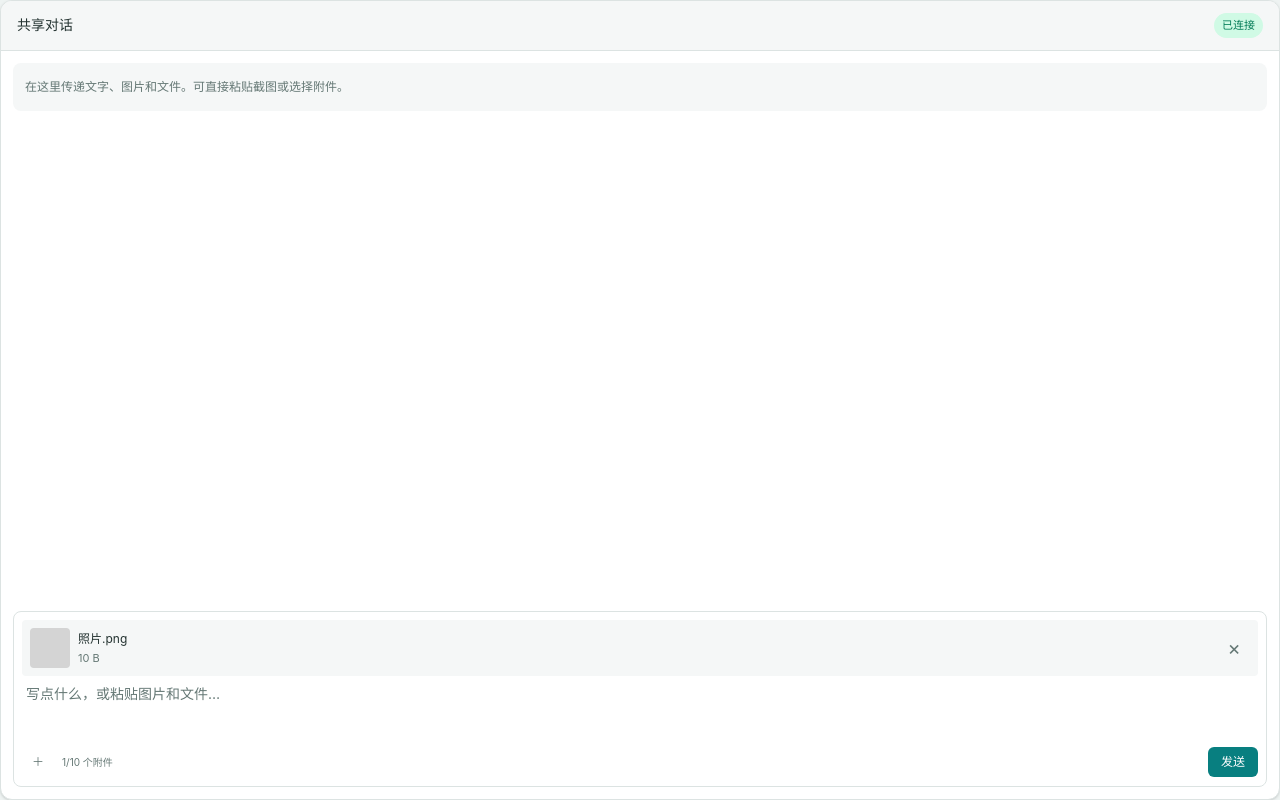
Test: chat drafts and confirmed submission › accepts file items when FileList is empty and removes/revokes previews
What coordinates should you click on to do the following:
click the button named "移除 照片.png"
I would click on:
 (1234, 648)
Its box is [1218,632,1250,664].
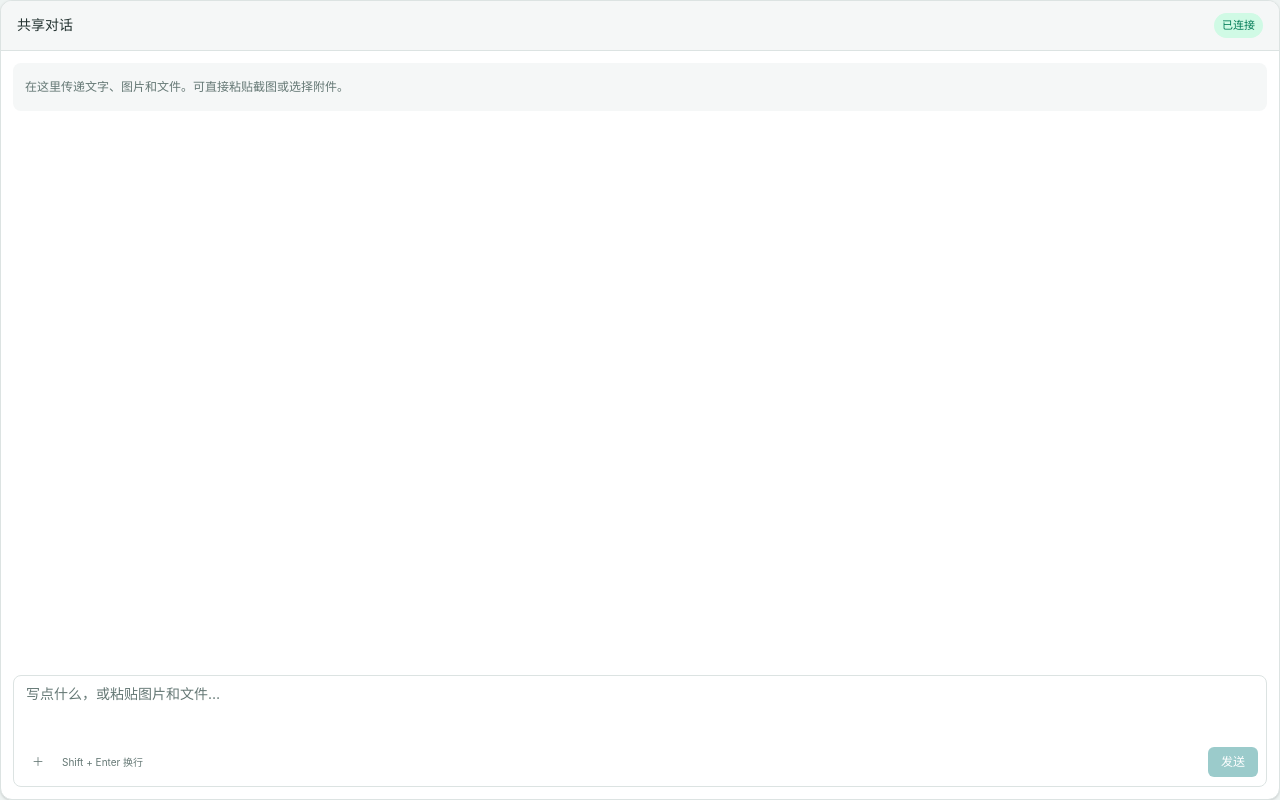
Result: the list "待发送附件" is gone
Result: the button "发送" is disabled at [1208,747,1258,777]
